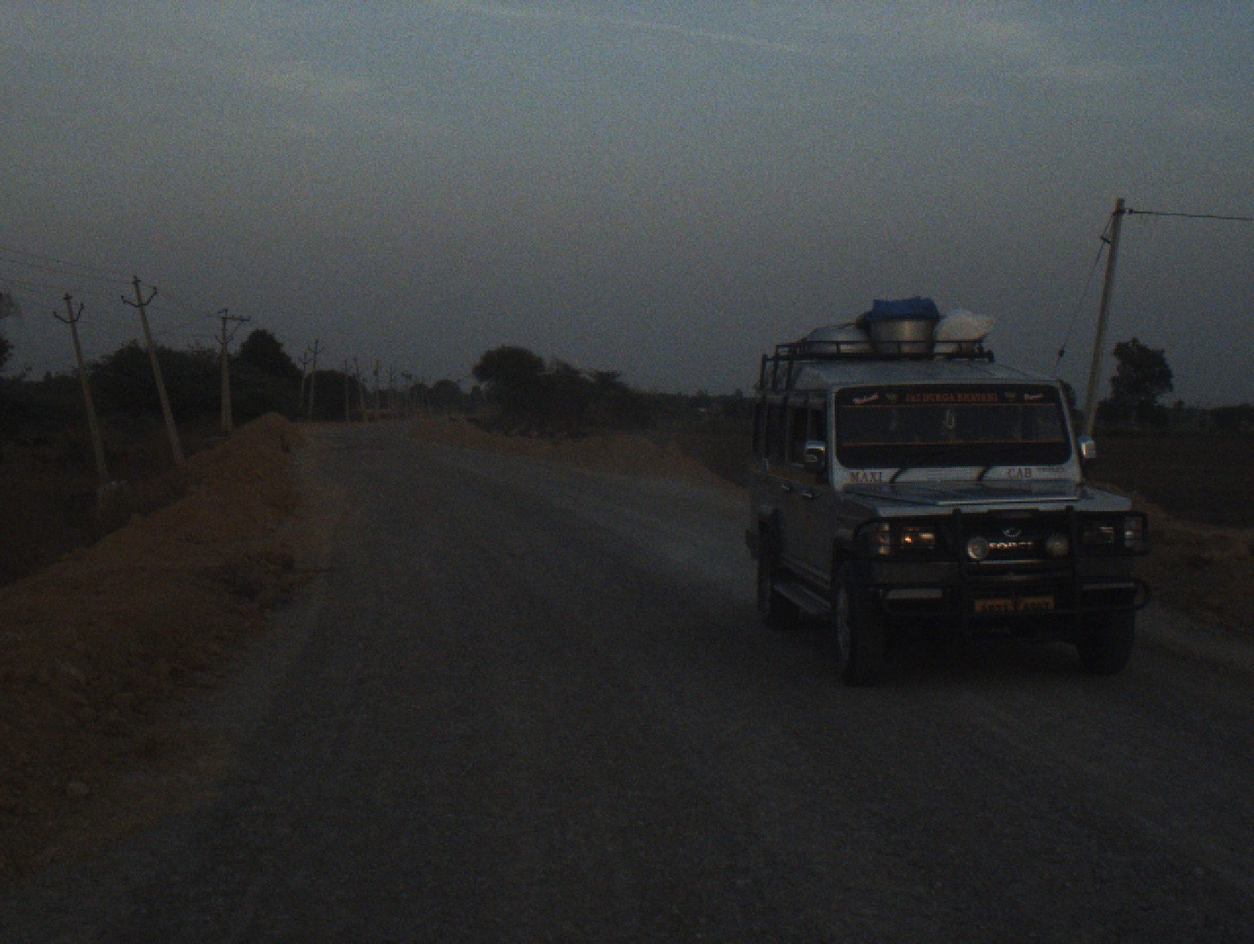car: (724, 295, 1155, 688)
